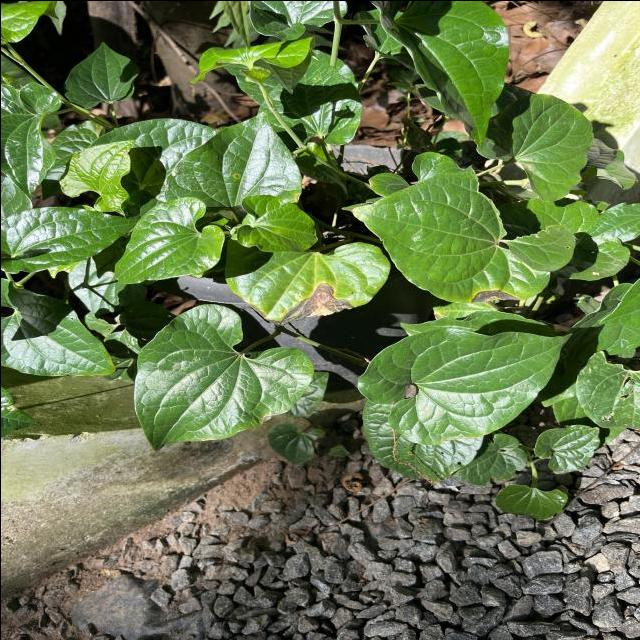Piper longum: (130, 302, 314, 452), (353, 324, 574, 447), (368, 0, 510, 151), (160, 106, 302, 206), (474, 90, 594, 204), (109, 194, 225, 284), (232, 192, 320, 253)
